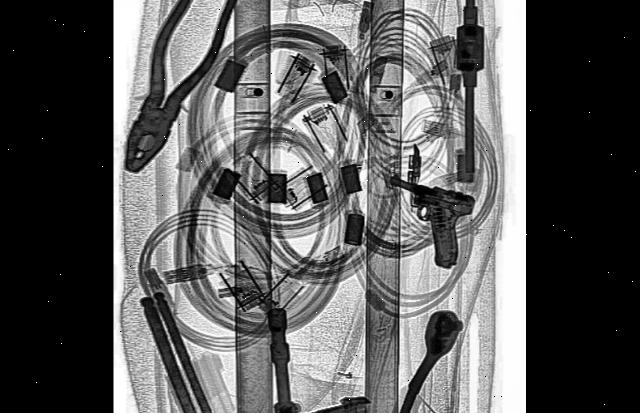Gun: (384, 170, 475, 271)
Pliers: (114, 0, 247, 186)
